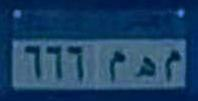6: (45, 42, 64, 81), (23, 43, 42, 81), (67, 44, 85, 83)
haa: (129, 52, 157, 82)
meem: (104, 47, 126, 85), (163, 45, 182, 85)
